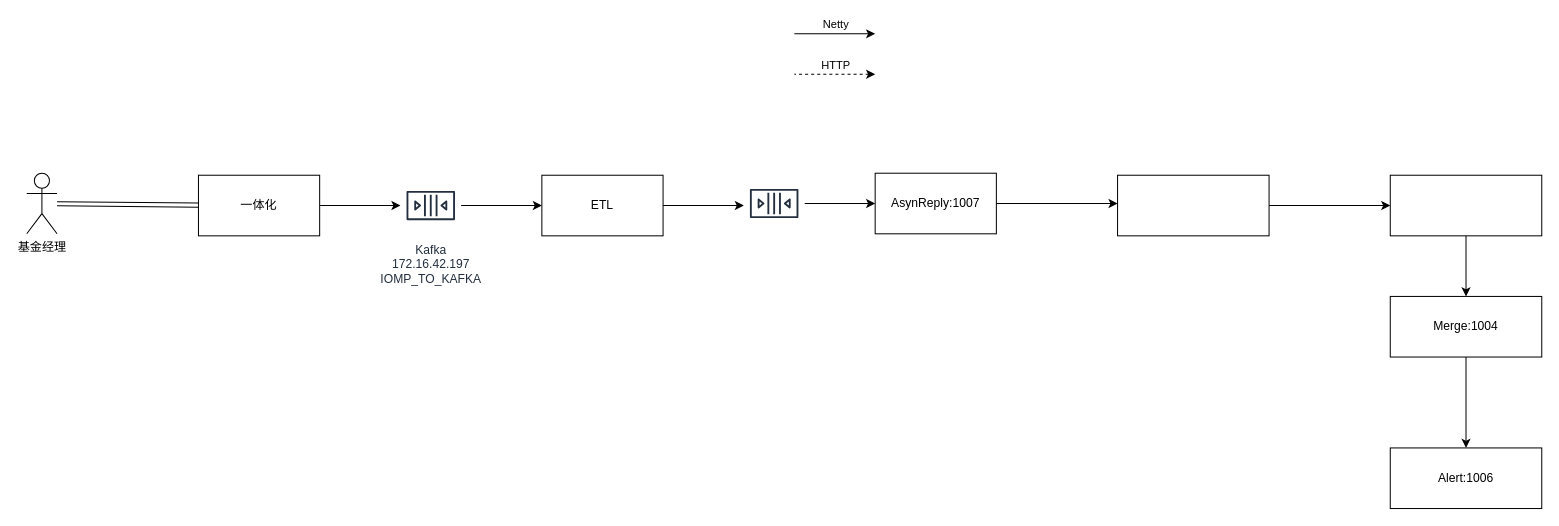
Image size: 1559x526. Some labels were removed from this diagram. Each missing label, with the centre of its shape:
CalCore:1003: (x=1465, y=205)
Kafka 172.16.44.212 XC_CONE_TRADE_ORDER: (x=773, y=203)
TransactionQueue:1002: (x=1193, y=205)
